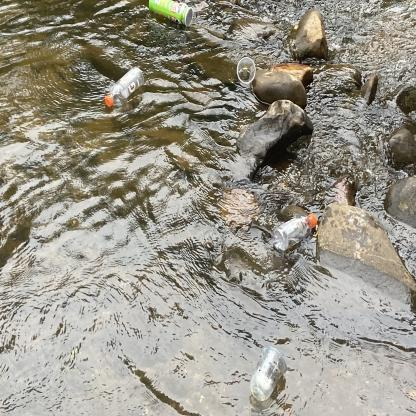trash: (248, 343, 290, 407), (266, 210, 322, 256), (100, 63, 148, 112), (146, 0, 196, 30), (234, 55, 258, 92)
